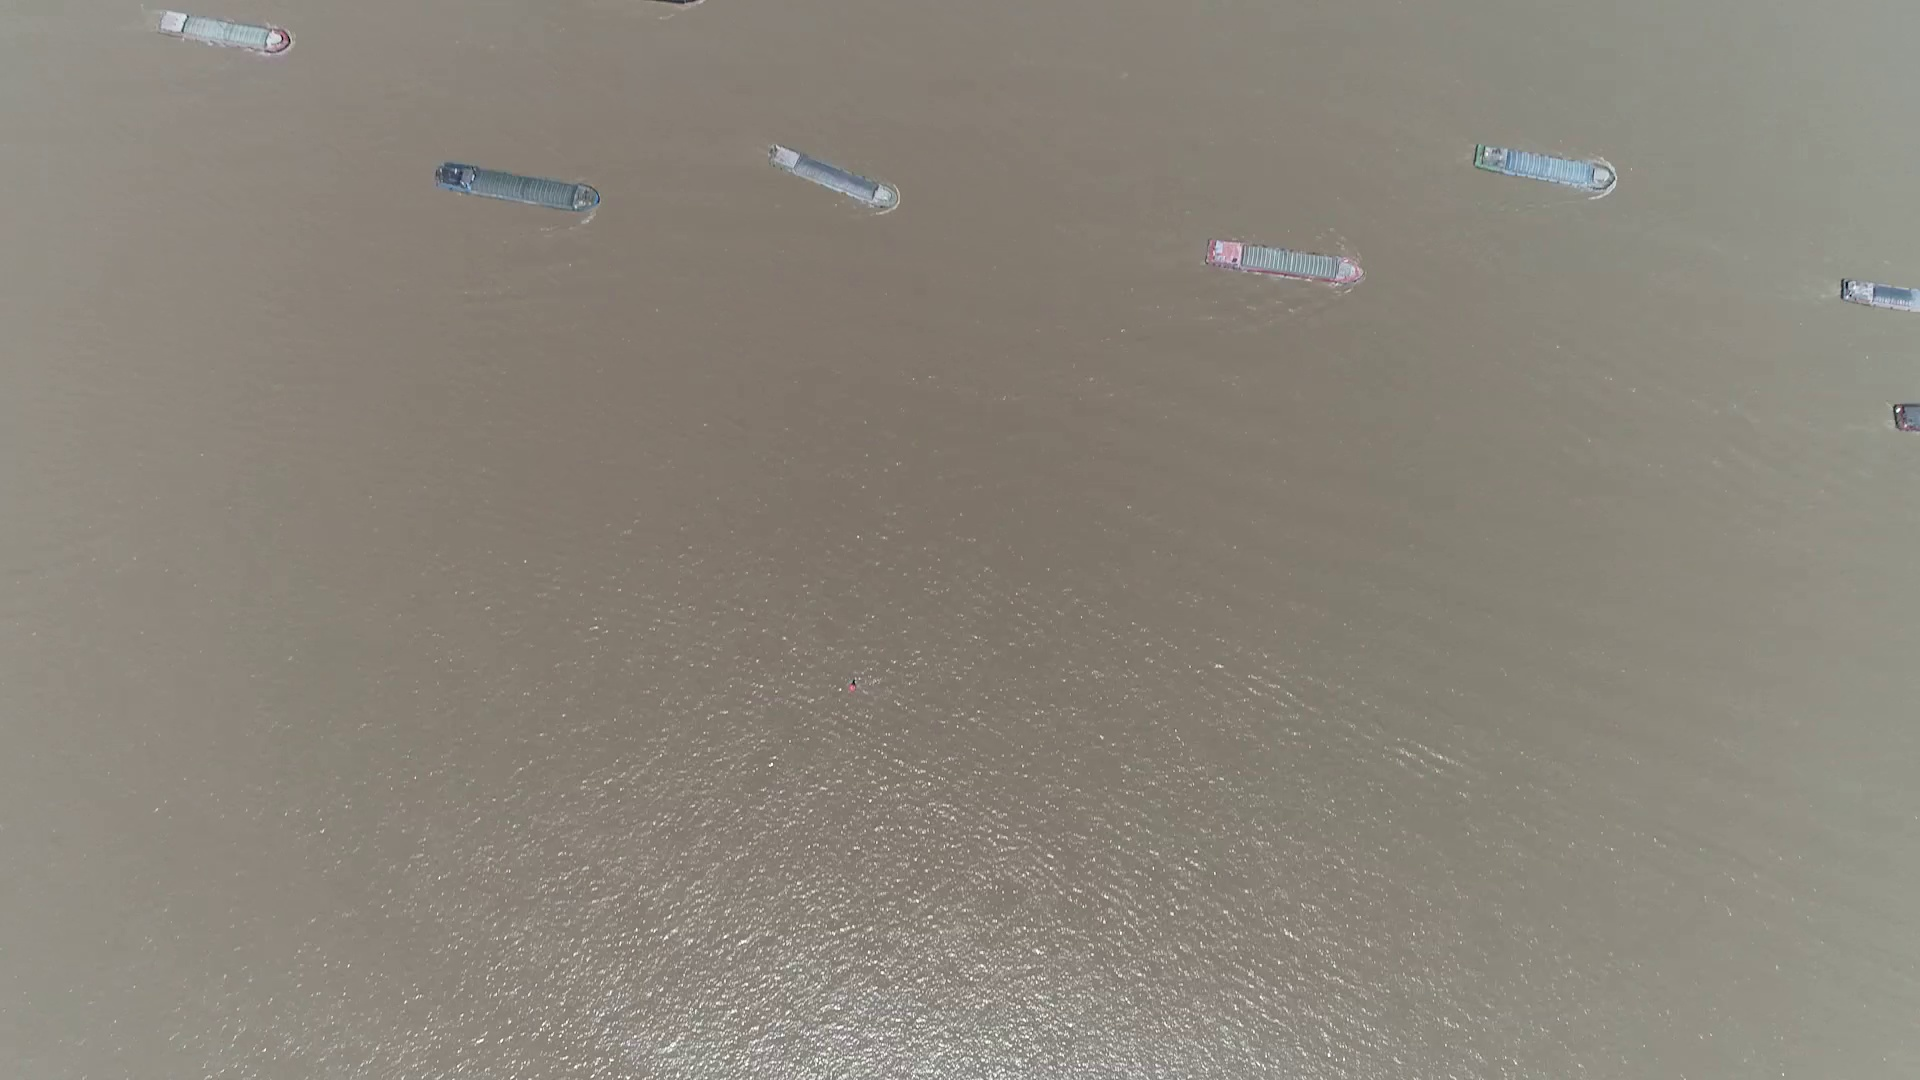ship: (434, 164, 597, 216), (767, 148, 897, 208), (1205, 241, 1360, 284), (157, 11, 291, 53), (1474, 149, 1614, 187), (1841, 282, 1917, 309)
